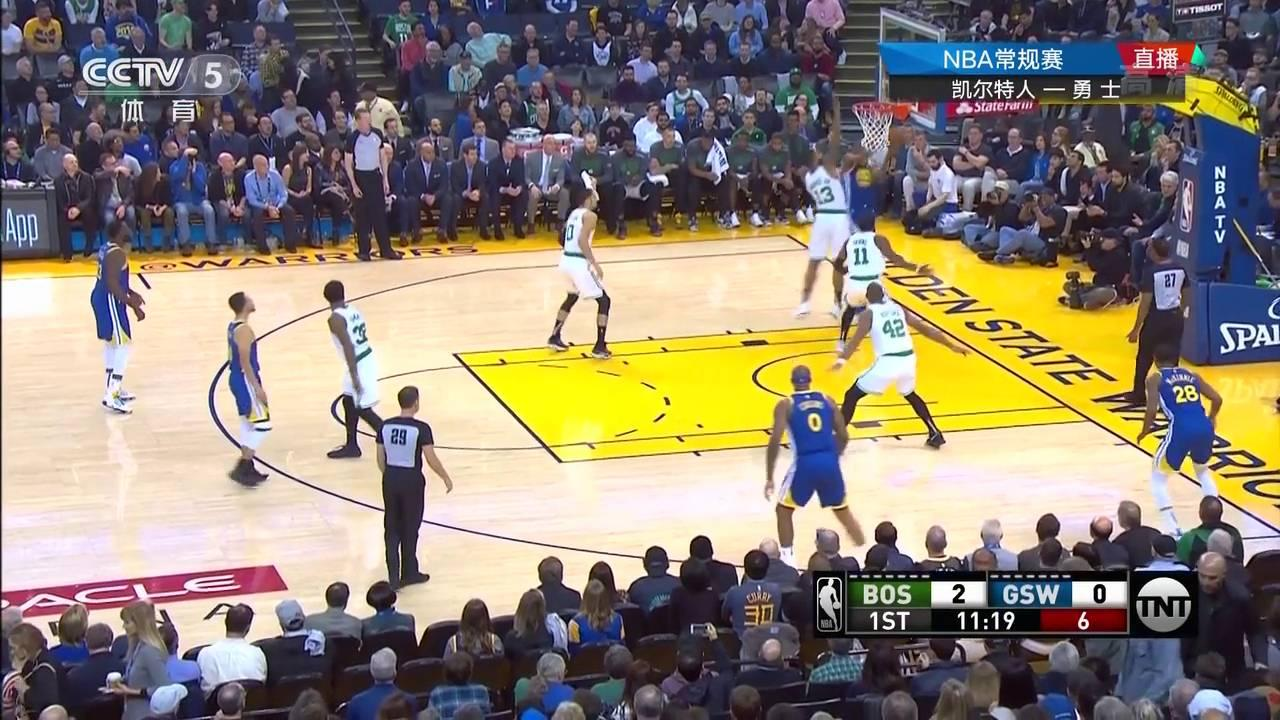basketball: (888, 122, 912, 148)
